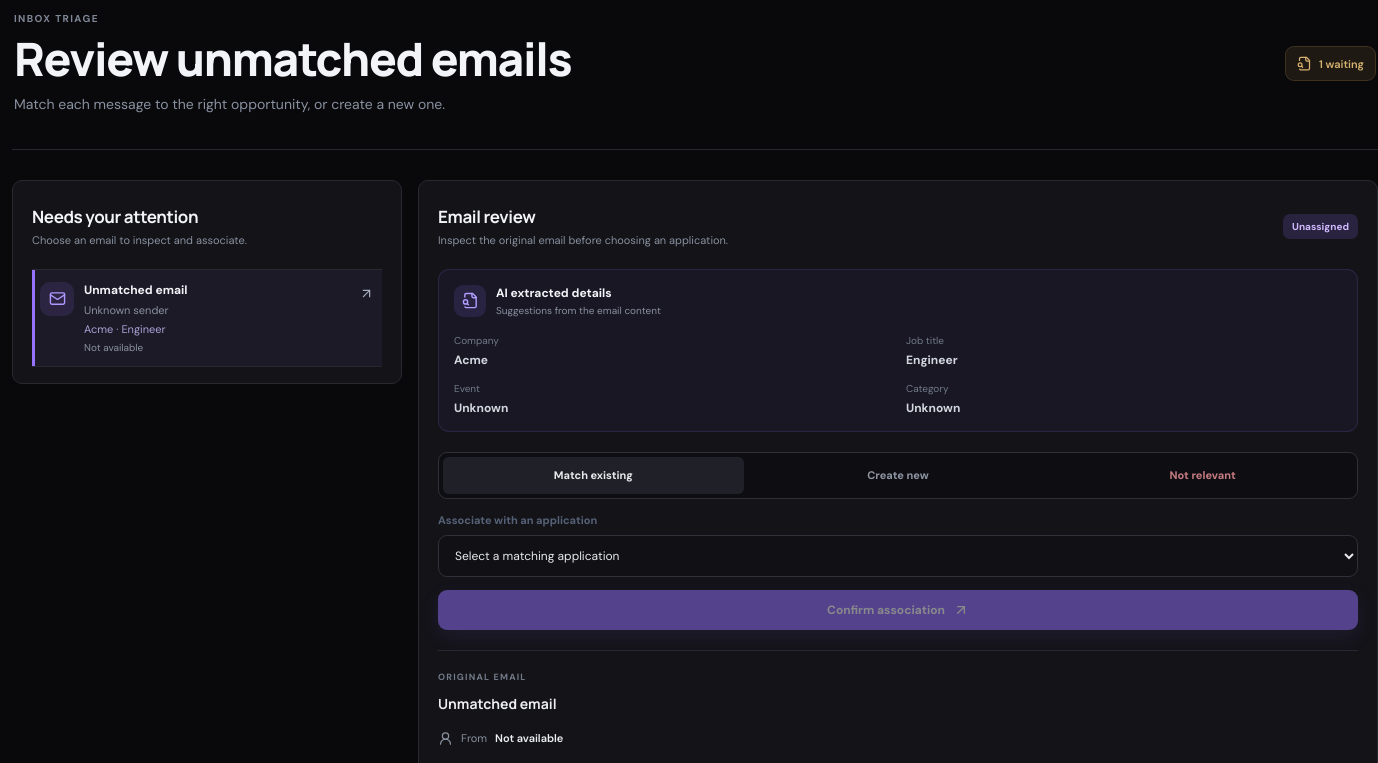
Test: review actions and data refresh › associates the selected email and refreshes the review queue
Select "Acme — Engineer" in the dropdown labelled "Associate with an application" at (898, 556), box [438,535,1358,577]
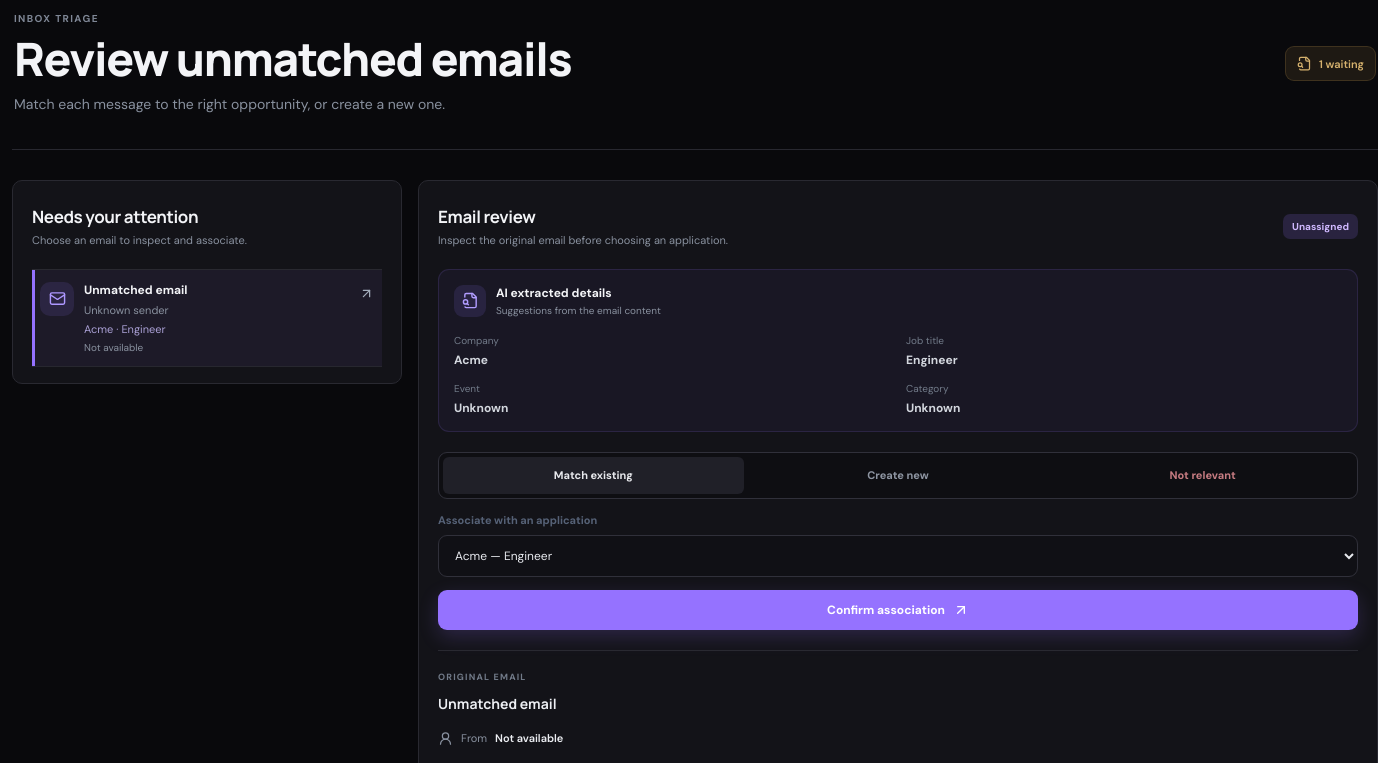
Click the button "Confirm association" at (898, 610), box [438,590,1358,630]
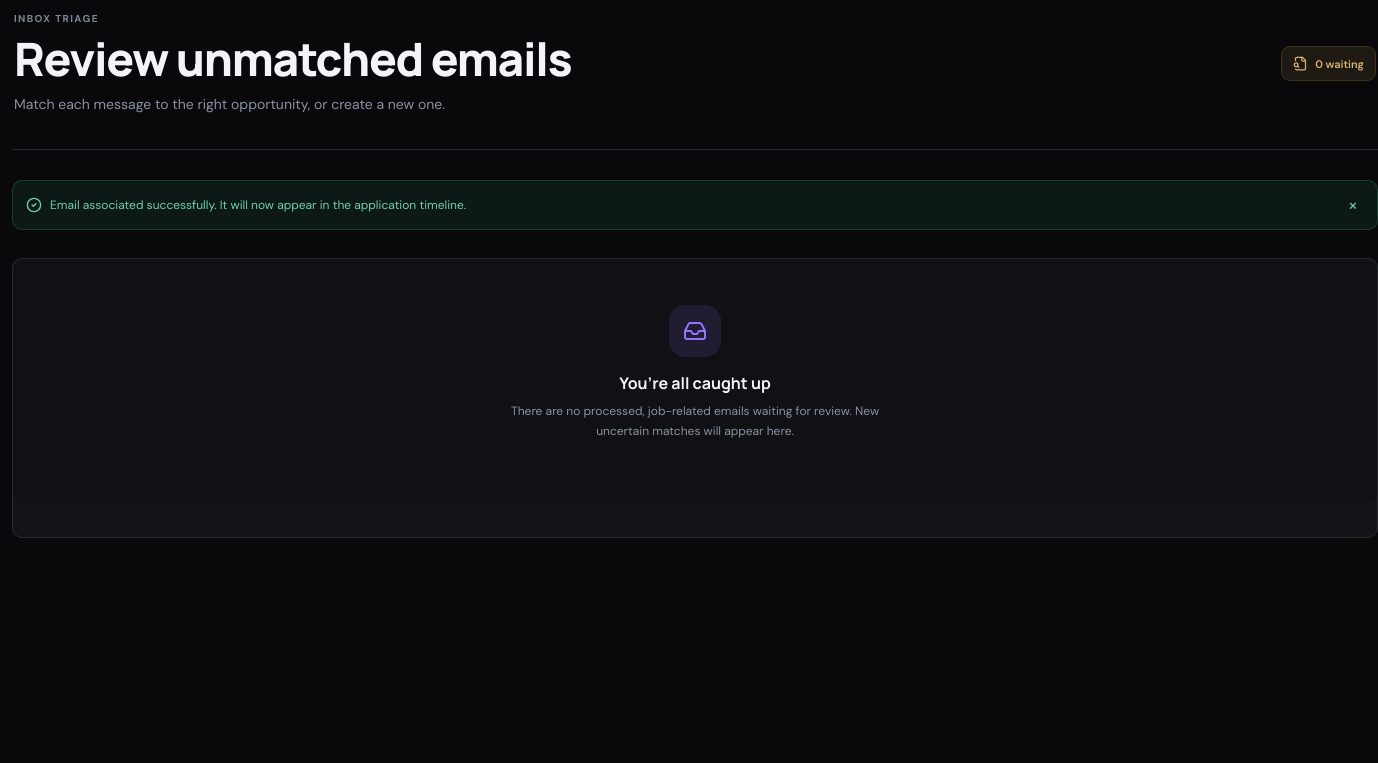
Result: the heading "You’re all caught up" is shown at [619,372,771,394]
Result: the text "Email associated successfully. It will now appear in the application timeline." is shown at [50,197,466,213]
